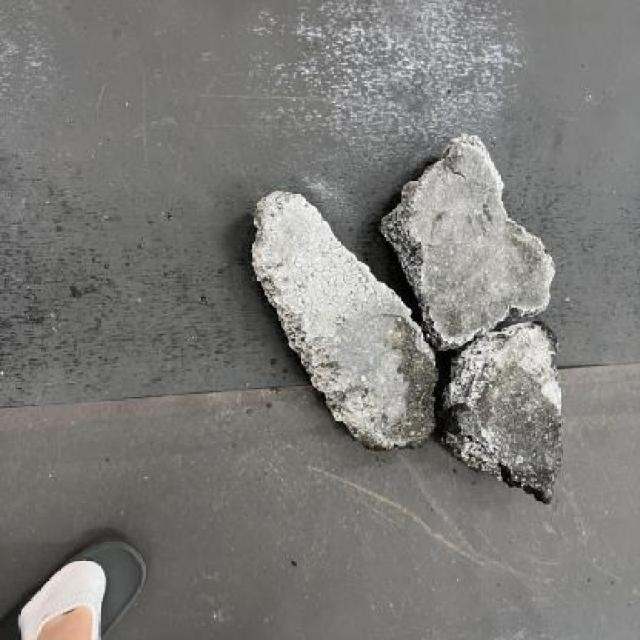Road Debris: (326, 302, 440, 449), (418, 228, 554, 332), (476, 362, 564, 496)
